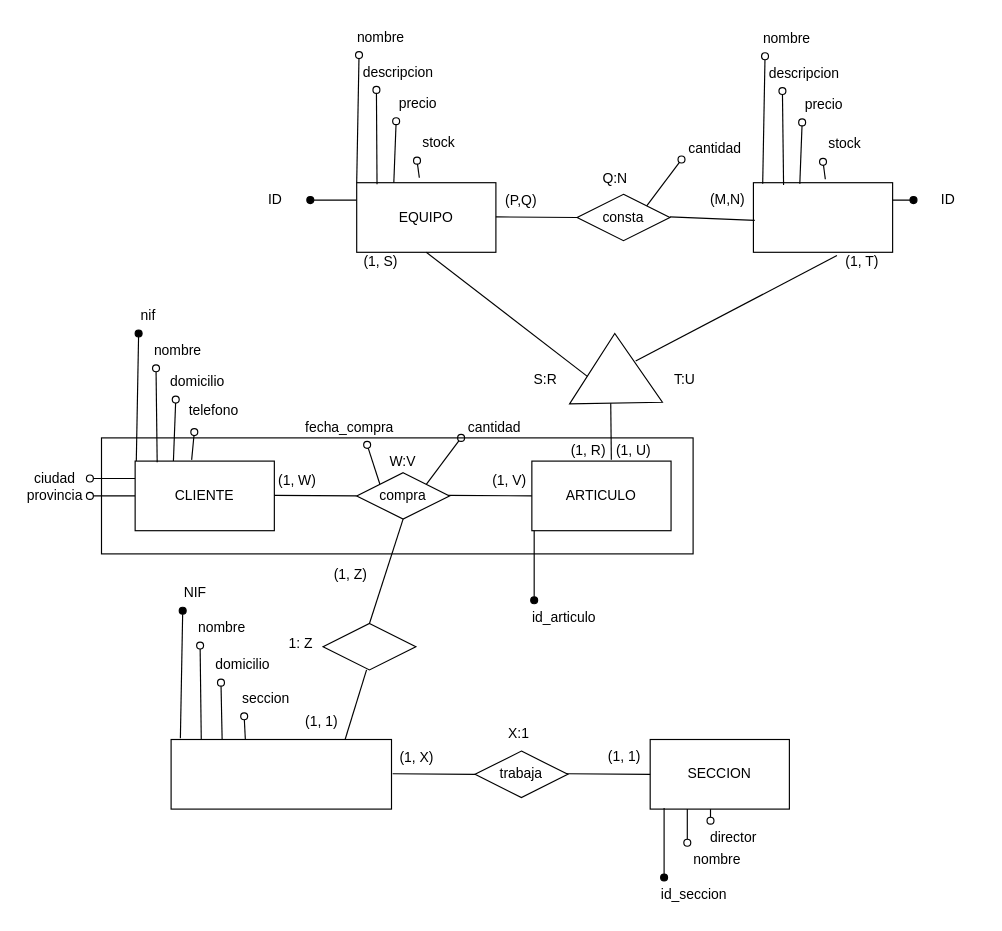
Image size: 1002x931. Some labels were removed from this diagram. The centre of each missing label's shape, as x and y in pixels:
"COMPONENTE" goes at (x=822, y=217).
"EMPLEADO" goes at (x=281, y=773).
"gestiona" goes at (x=369, y=646).
